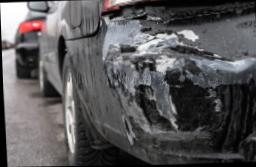Bumper: (92, 28, 245, 163)
